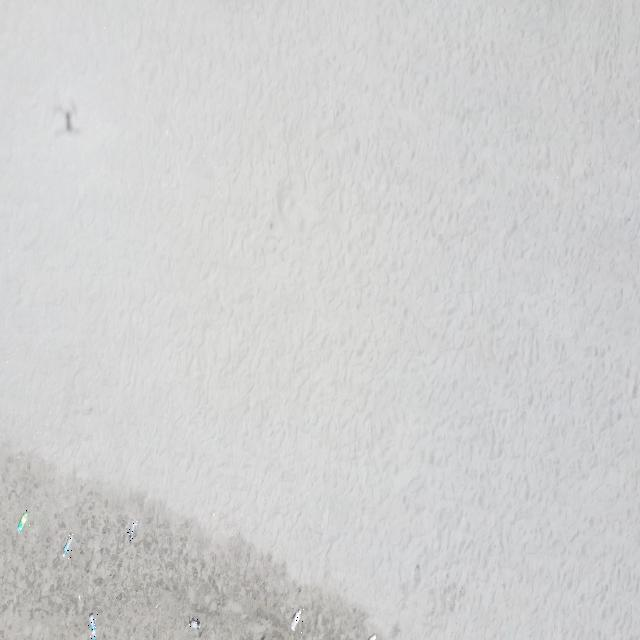plastic-bottle: (288, 606, 304, 633), (17, 508, 30, 537), (62, 531, 74, 559), (88, 613, 98, 640), (126, 518, 136, 545), (188, 618, 202, 630)
